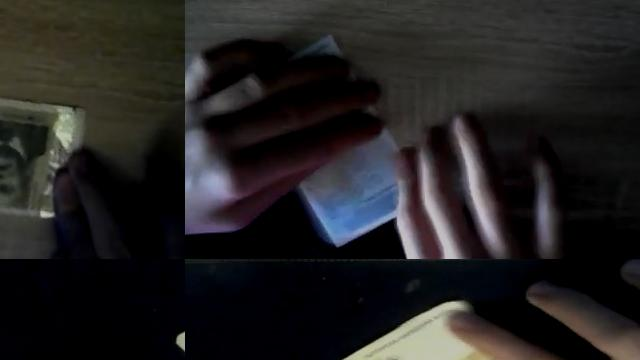10leva: (343, 301, 498, 360), (0, 115, 46, 194)
20leva: (297, 129, 398, 246)
